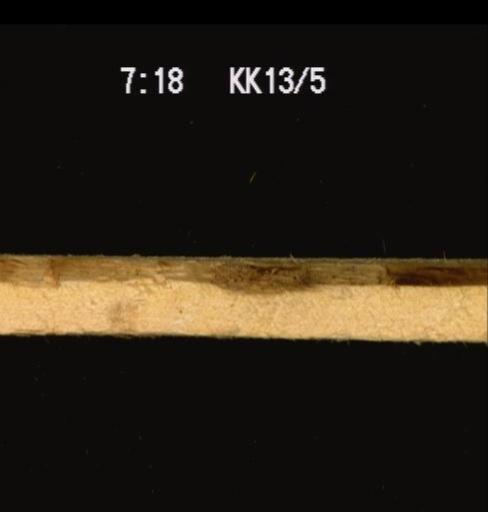wave: (0, 236, 486, 290)
